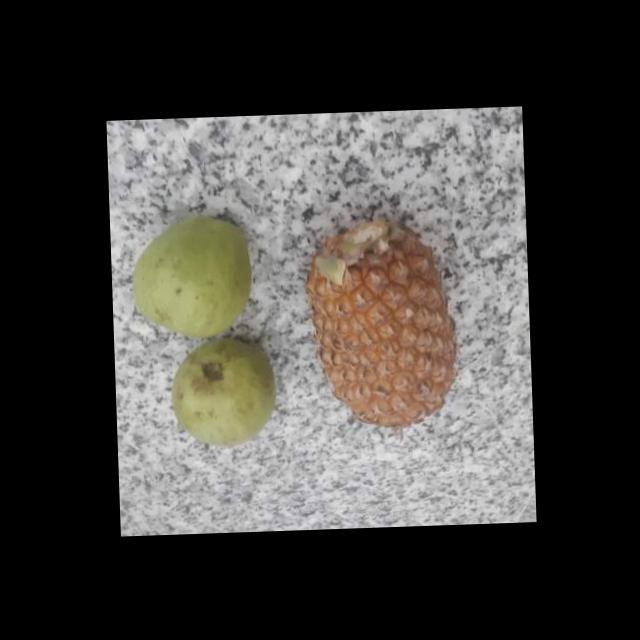guava: (124, 214, 252, 334), (164, 336, 278, 446)
pineapple: (304, 213, 456, 435)
